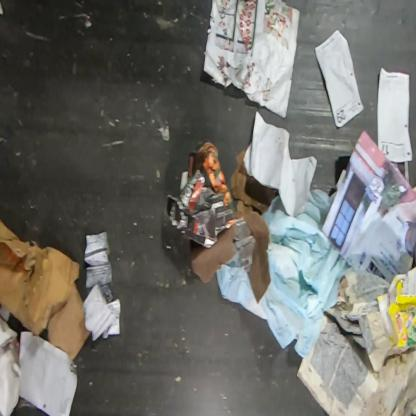cardboard: (0, 219, 91, 360), (166, 141, 235, 248), (376, 266, 415, 349)
